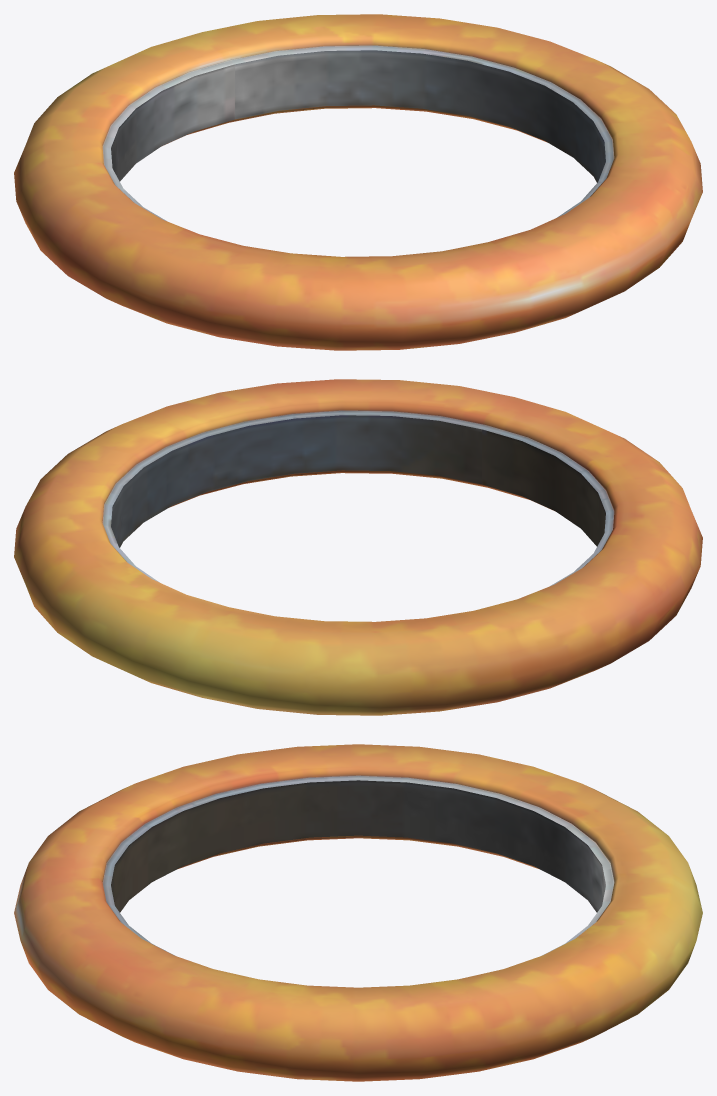
File: pref_fx_scoredouble_orange_idle_lv1.fbx
The picture shows the model from 3 angles, top to bottom: view 1: azimuth 30°, elevation 25°; view 2: azimuth 150°, elevation 25°; view 3: azimuth 270°, elevation 25°; orthographic projection.
Parts seen in each view (by area): view 1: sm_prop_platform06b_lv1; view 2: sm_prop_platform06b_lv1; view 3: sm_prop_platform06b_lv1.
Part boxes in pixels (left/top/right/bottom): sm_prop_platform06b_lv1: left=14, top=14, right=702, bottom=350; sm_prop_platform06b_lv1: left=14, top=379, right=702, bottom=715; sm_prop_platform06b_lv1: left=14, top=744, right=702, bottom=1081.
Size of the model in its own units: 2.52 by 0.2873 by 2.52.
